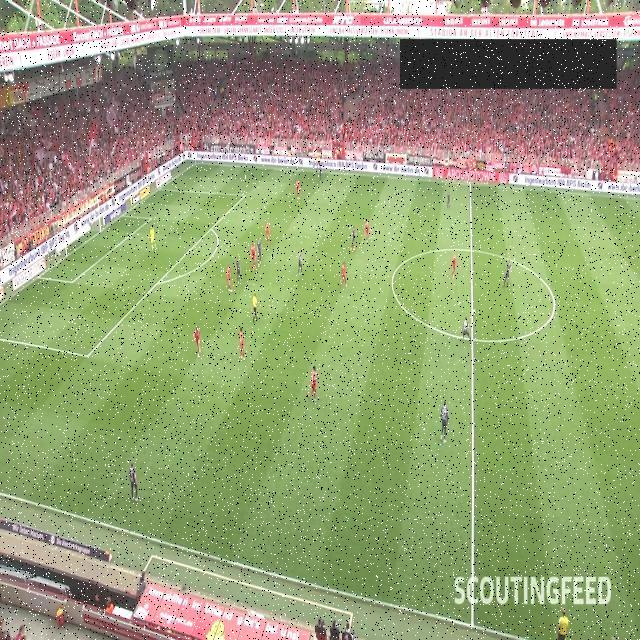Ball: (473, 308, 476, 314)
Corner: (193, 148, 198, 165)
GoalKeeper: (149, 226, 157, 252)
Referee: (557, 606, 569, 640), (252, 292, 258, 322), (316, 153, 321, 171)
TEAM 1: (308, 364, 318, 402), (192, 326, 202, 358), (239, 326, 245, 361), (340, 261, 348, 287), (226, 264, 233, 292), (251, 243, 257, 271), (264, 222, 270, 246), (364, 221, 370, 243), (452, 254, 456, 278), (296, 180, 300, 200)
TEAM 2: (128, 462, 138, 502), (439, 400, 448, 442), (502, 260, 512, 288), (462, 316, 472, 340), (257, 237, 263, 266), (236, 256, 242, 284), (350, 226, 356, 250), (298, 250, 303, 275), (446, 191, 451, 209), (318, 165, 322, 184)
